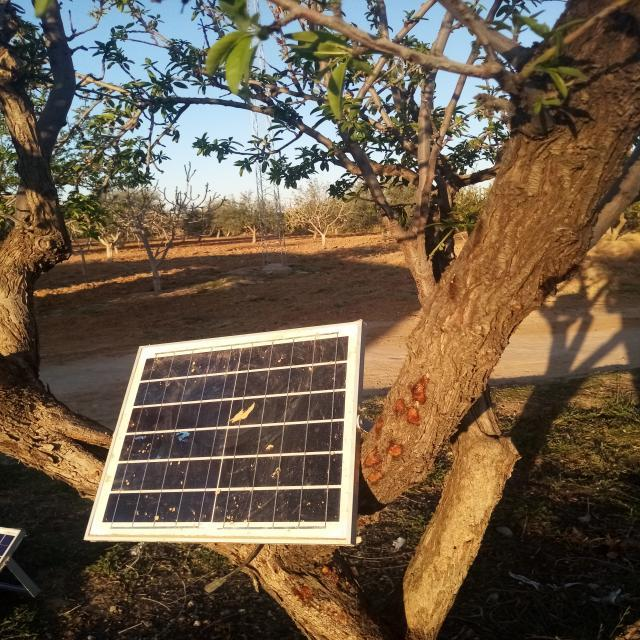faulty: (86, 323, 365, 543)
